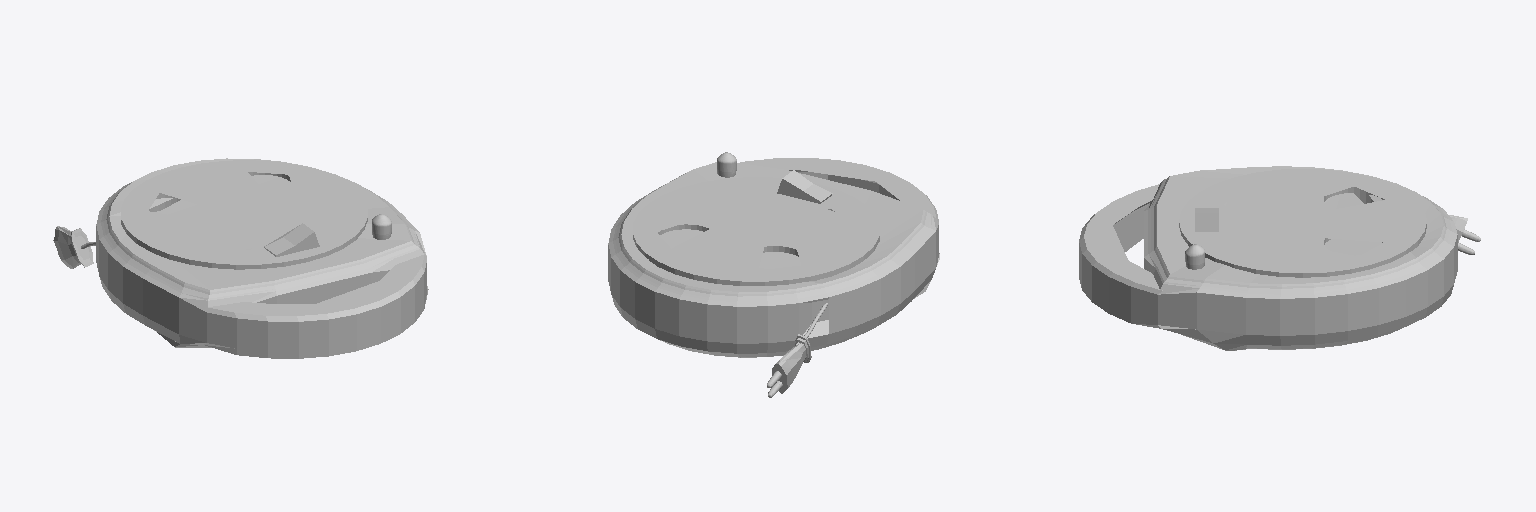
The model's file is TERMINAL-21.obj.
3 views of the same model, side by side, from view 1: azimuth 30°, elevation 25°; view 2: azimuth 150°, elevation 25°; view 3: azimuth 270°, elevation 25° (orthographic).
Parts seen in each view (by area): view 1: Cylinder, Cylinder.001, Cube.002, Transparent-Switch; view 2: Cylinder, Cylinder.001, Cube.002, Transparent-Switch; view 3: Cylinder, Cylinder.001, Transparent-Switch.
Part boxes in pixels (bbox=[...]): Cylinder: bbox=[96, 158, 428, 358]; Cylinder.001: bbox=[121, 160, 367, 269]; Cube.002: bbox=[54, 226, 93, 268]; Transparent-Switch: bbox=[264, 223, 319, 256]; Cylinder: bbox=[608, 158, 939, 357]; Cylinder.001: bbox=[633, 177, 879, 285]; Cube.002: bbox=[772, 334, 811, 393]; Transparent-Switch: bbox=[777, 170, 832, 203]; Cylinder: bbox=[1079, 166, 1457, 350]; Cylinder.001: bbox=[1179, 169, 1426, 277]; Transparent-Switch: bbox=[1195, 208, 1218, 231].
Size of the model in its own units: 15 by 5.58 by 19.69.